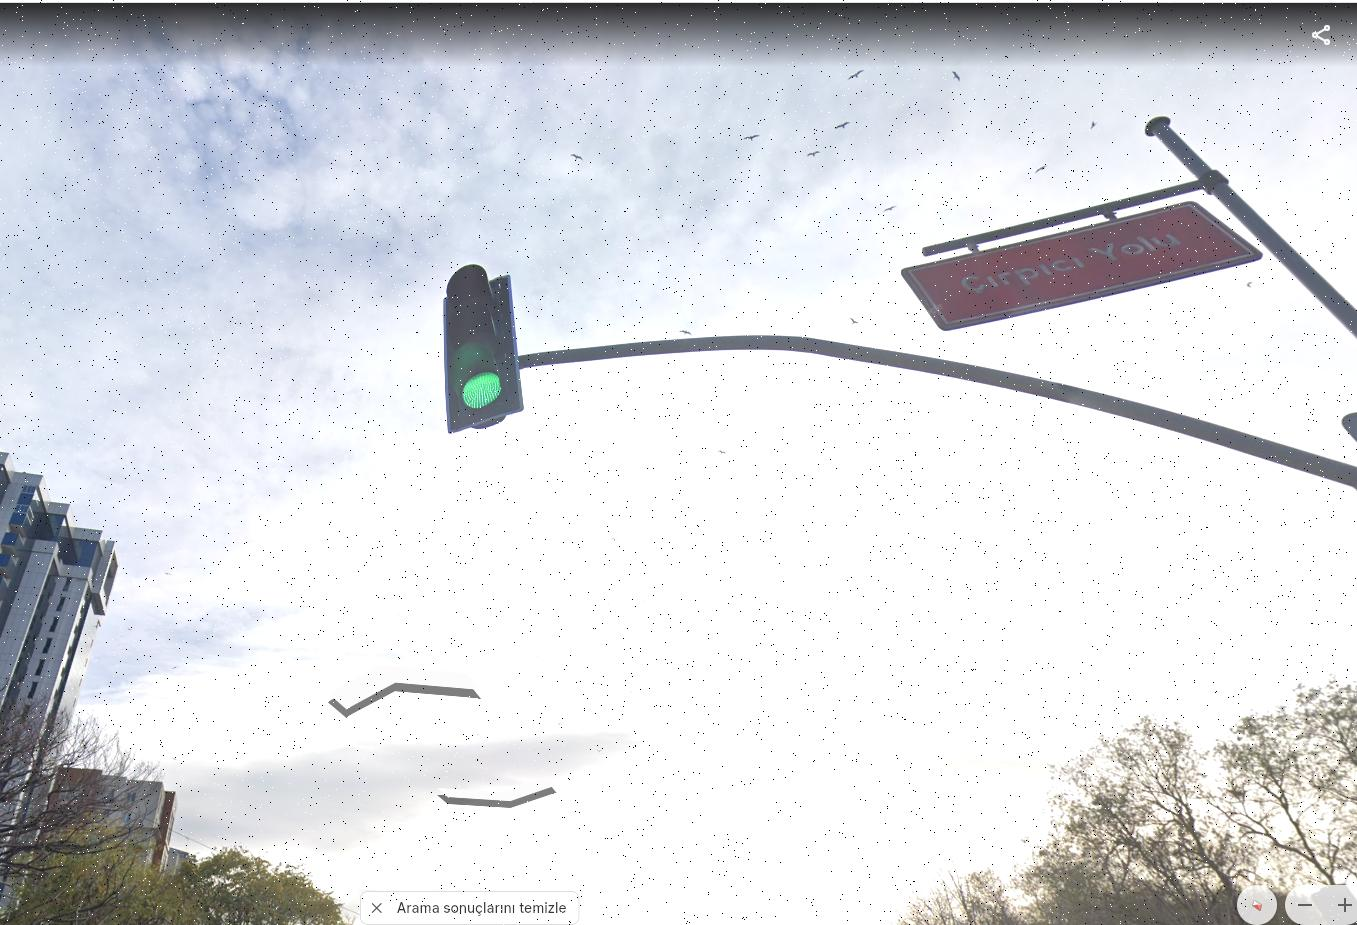greenlight: (445, 272, 516, 419)
